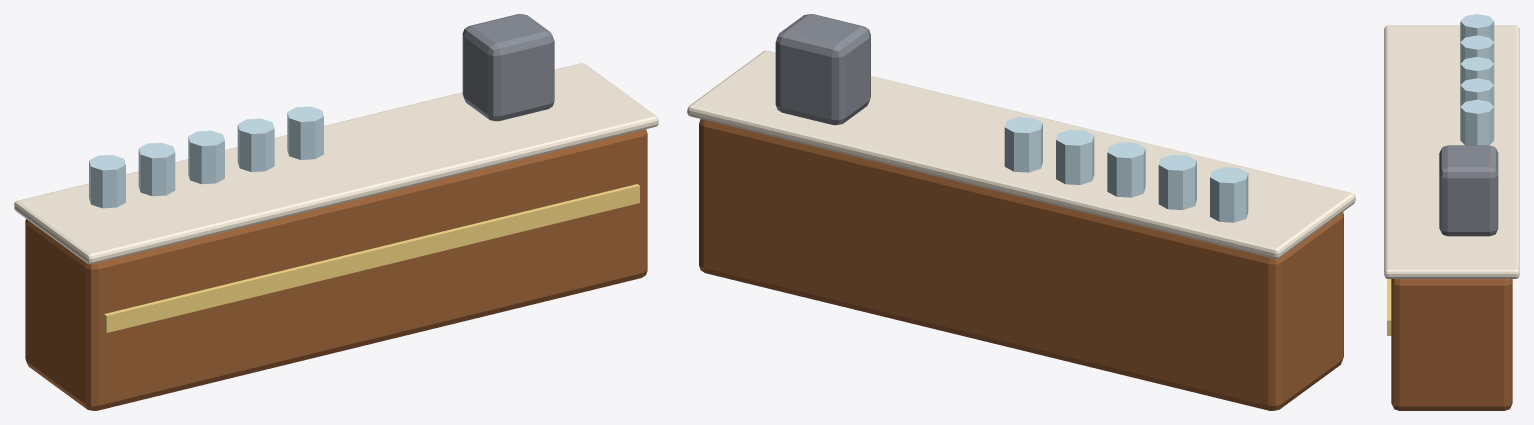
Rendered from int_konterKopi.fbx.
3 renders of one model, left to right at view 1: azimuth 30°, elevation 25°; view 2: azimuth 150°, elevation 25°; view 3: azimuth 270°, elevation 25°, orthographic. The views are drawn at different scales.
Visible parts, largest first — view 1: int_konterKopi; view 2: int_konterKopi; view 3: int_konterKopi.
Boxes of the visible parts, x1=… form: int_konterKopi: x1=14, y1=14, x2=658, y2=410; int_konterKopi: x1=687, y1=14, x2=1355, y2=410; int_konterKopi: x1=1384, y1=14, x2=1519, y2=410.
Size of the model in its own units: 346 by 140 by 80.
Materials: 1 (1 with a texture image).
